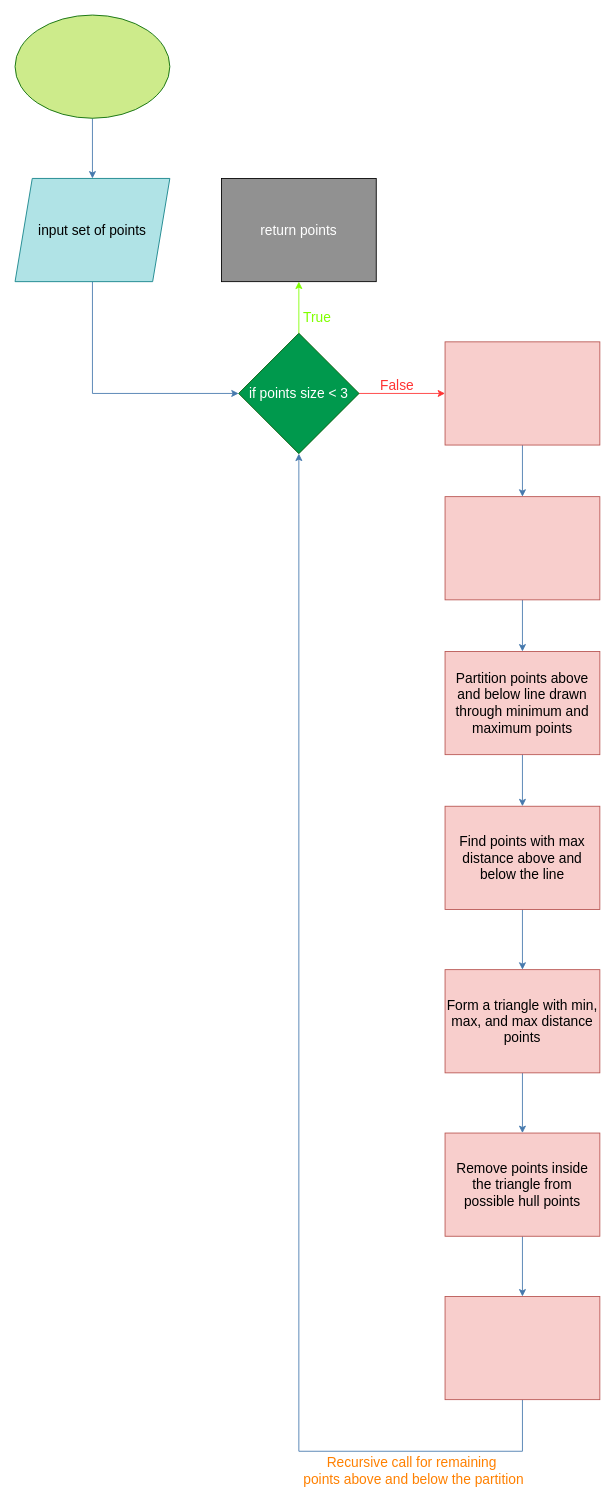
The diagram is 615 pixels wide and 1502 high, and some of its shapes have lost their labels. Each missing label, with the centre of its shape:
"Find minimum and maximum points and add to them to the hull" belongs at pixel 522 548.
"Return hull points found" belongs at pixel 522 1348.
"Sort points by x coordinate" belongs at pixel 522 393.
"START" belongs at pixel 92 66.
